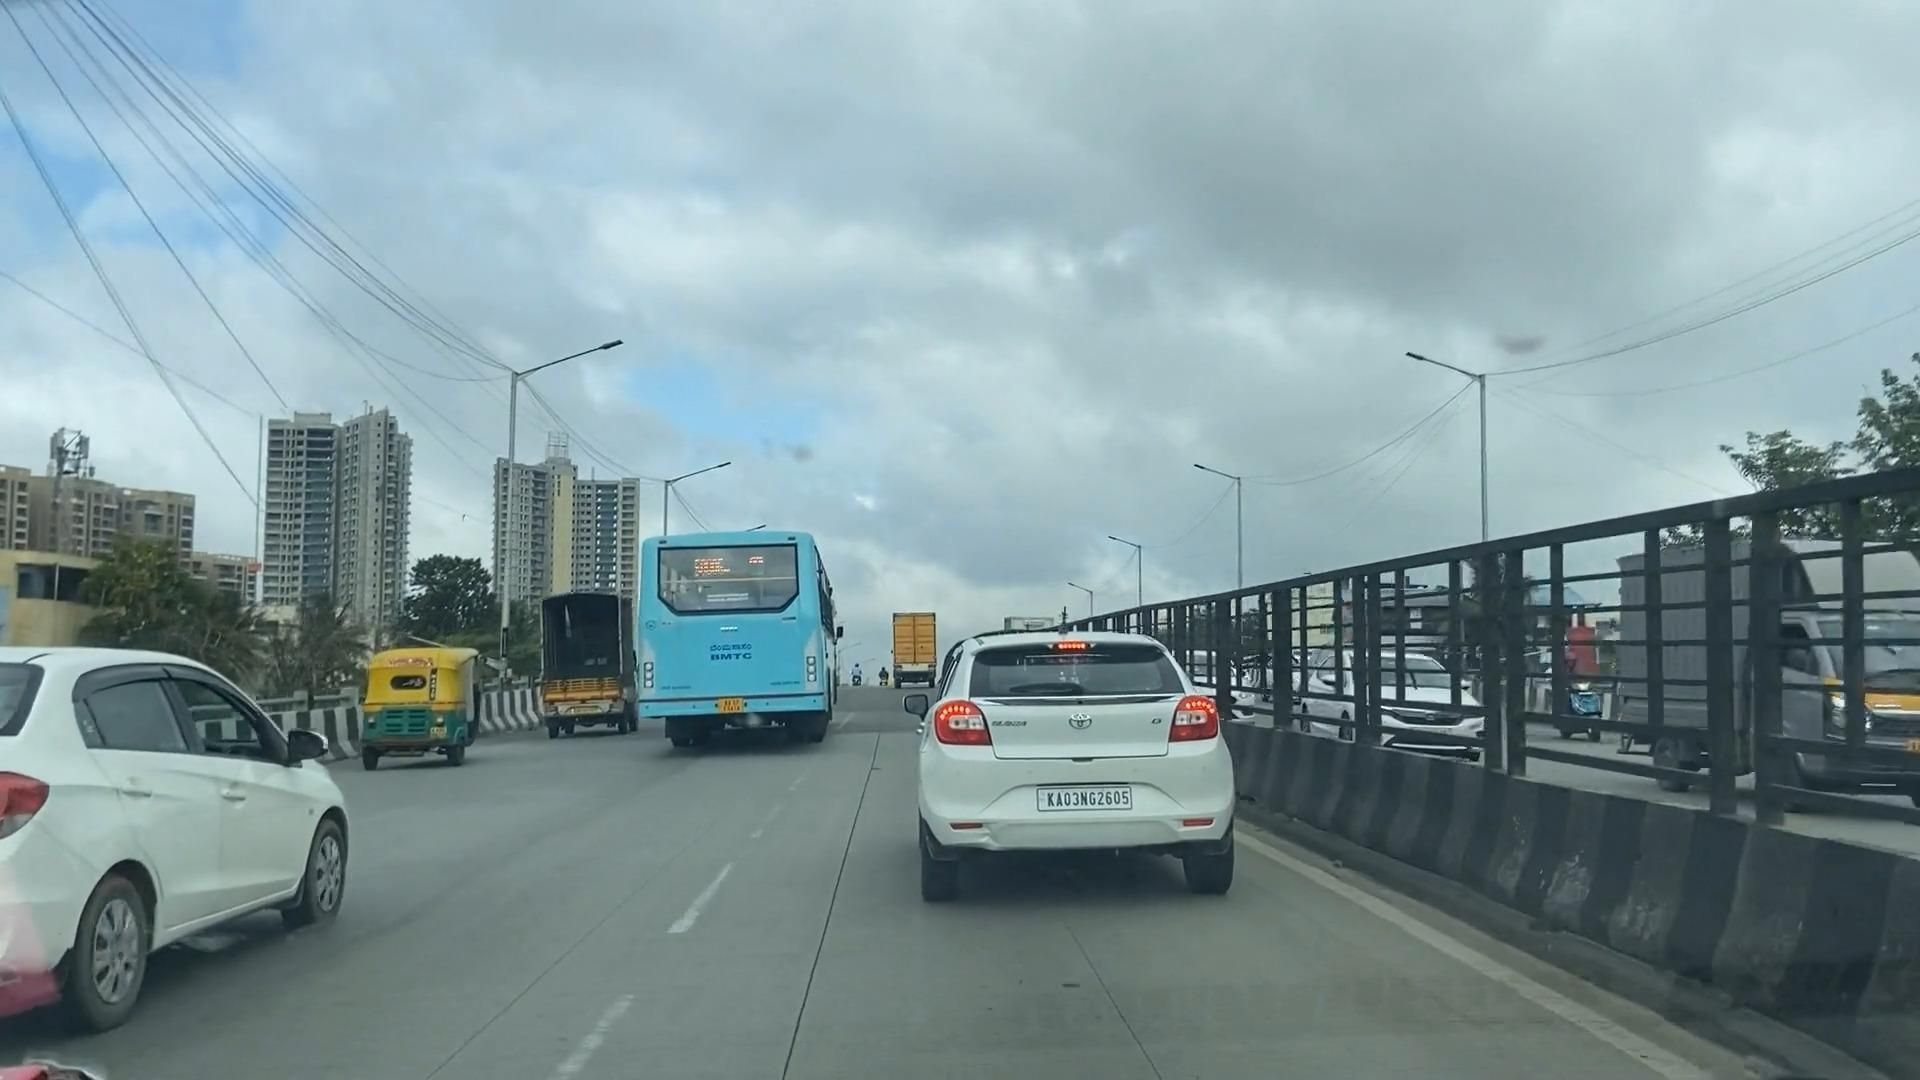HMV: (630, 491, 851, 758), (531, 580, 638, 752), (884, 597, 942, 703)
LMV: (0, 589, 484, 1006), (862, 616, 1265, 911), (371, 626, 518, 769)
